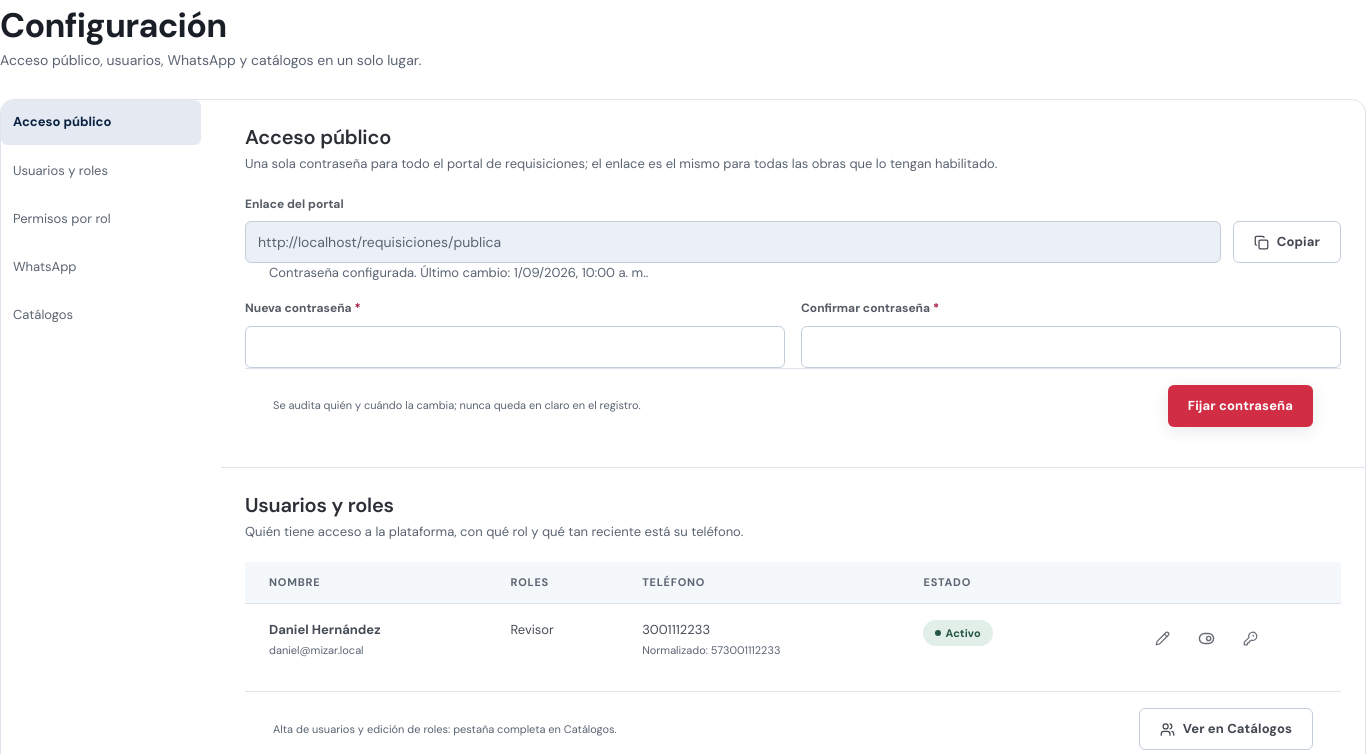
SettingsScreen › asigna una contraseña temporal usando POST /api/usuarios/:id/clave
Check: the text "Daniel Hernández" is shown, box [269,621,380,638]
Click the button named "Asignar contraseña temporal a Daniel Hernández".
click(1250, 638)  # box [1232,620,1268,656]
(page scrolled)
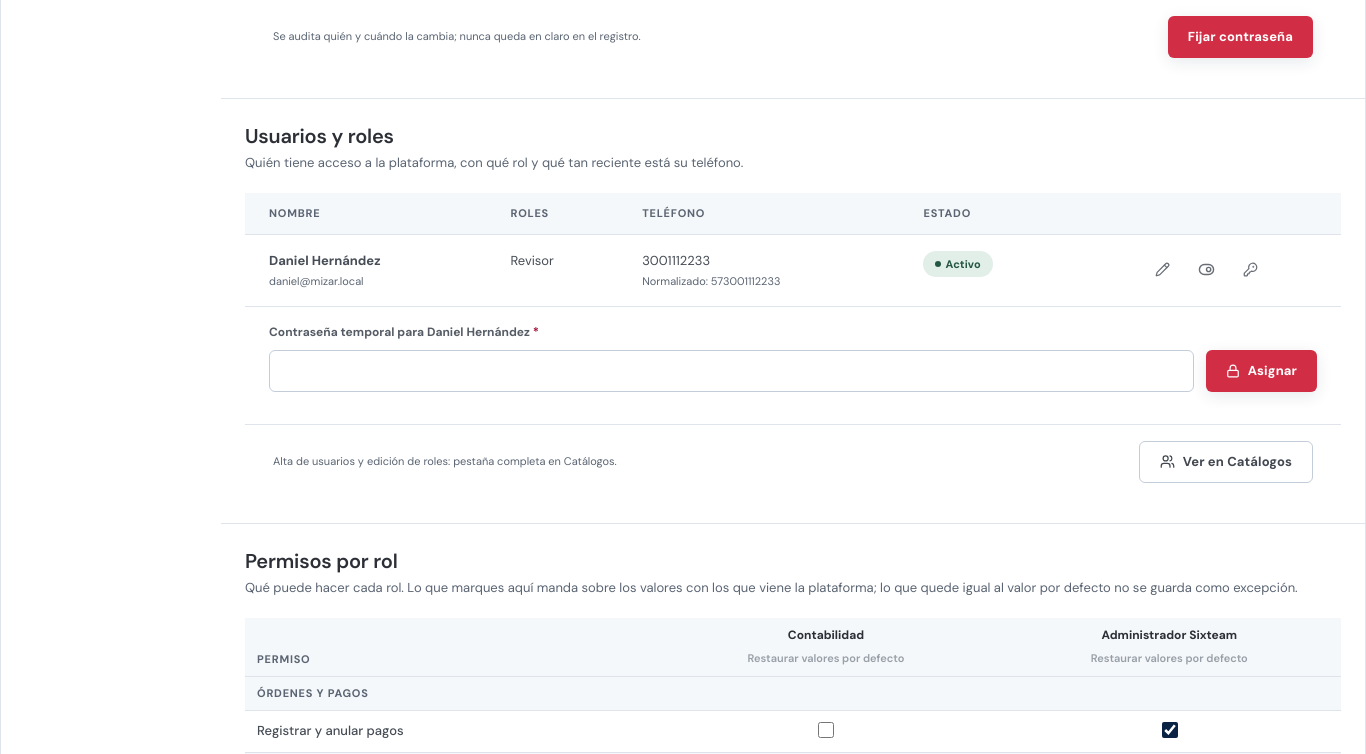
Type "clave-temporal-1" into the password field labelled "Contraseña temporal para Daniel Hernández *".
click(731, 371); type("clave-temporal-1")  # box [269,350,1194,392]
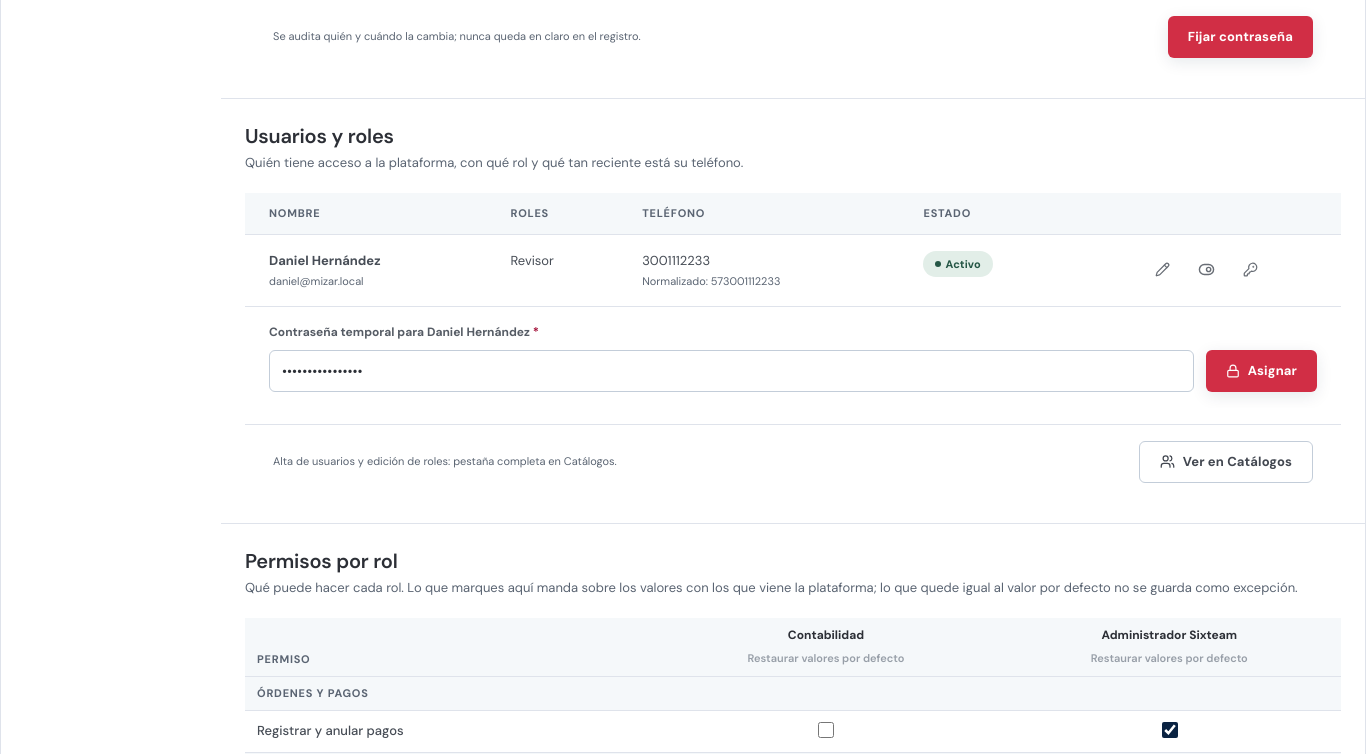
Click the button "Asignar".
click(1261, 371)  # box [1206,350,1317,392]
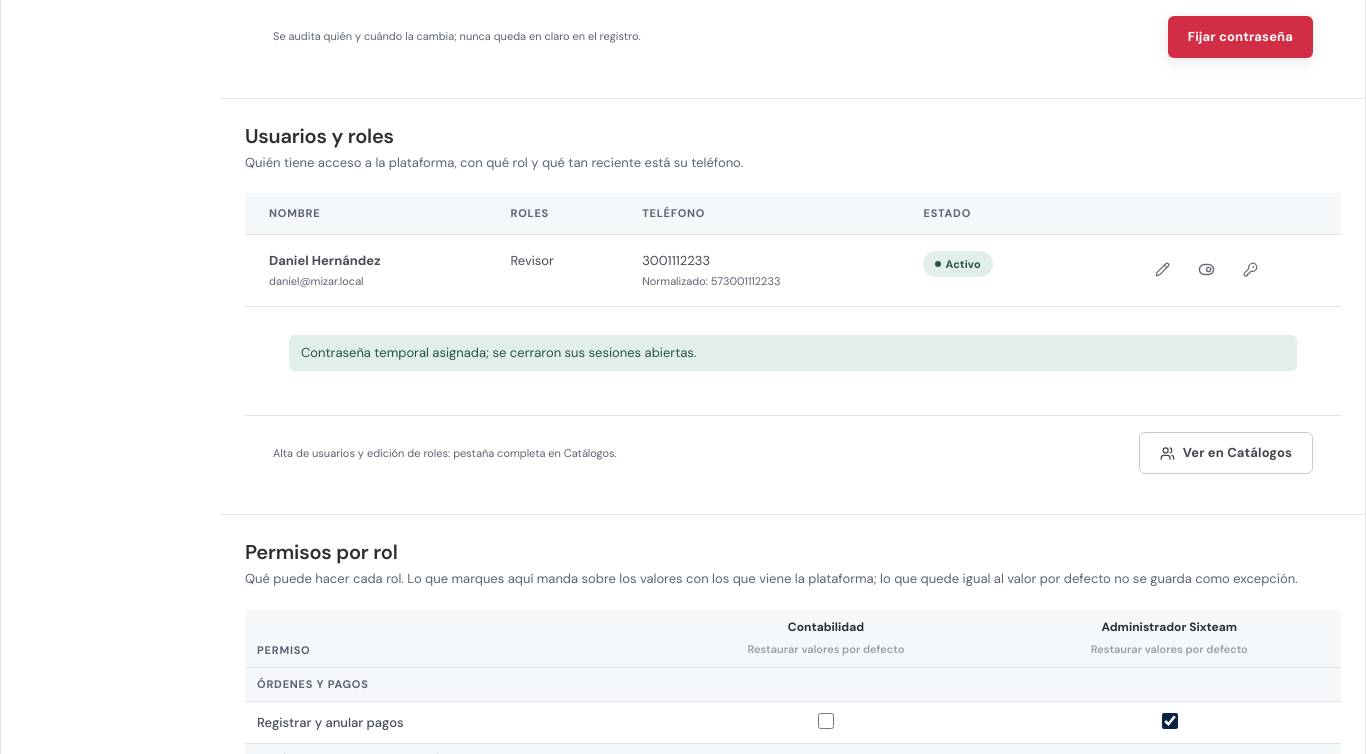
Check: the text "Contraseña temporal asignada; se cerraron sus sesiones abiertas." is shown, box [289,335,1297,371]
